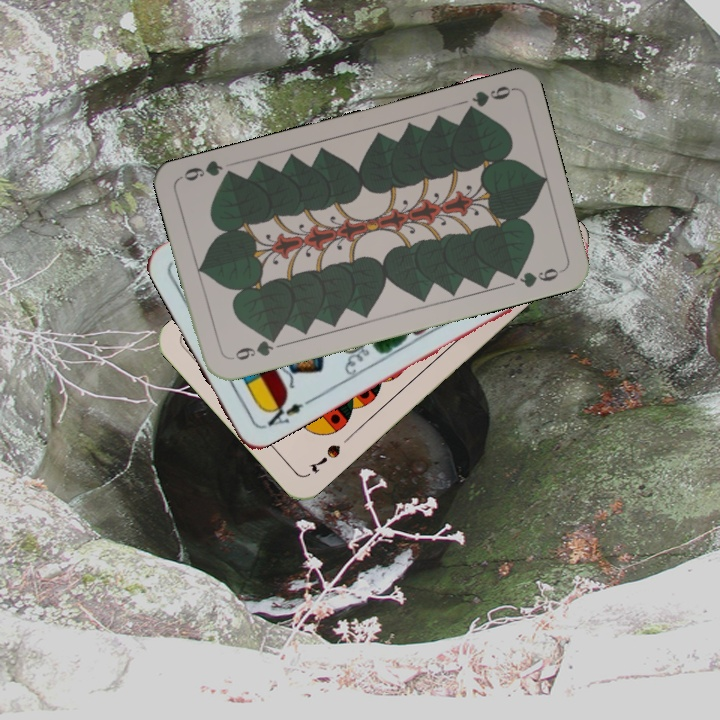EA: (260, 395, 313, 429)
G9: (461, 82, 516, 118), (225, 332, 281, 363)
S7: (305, 440, 343, 476)
